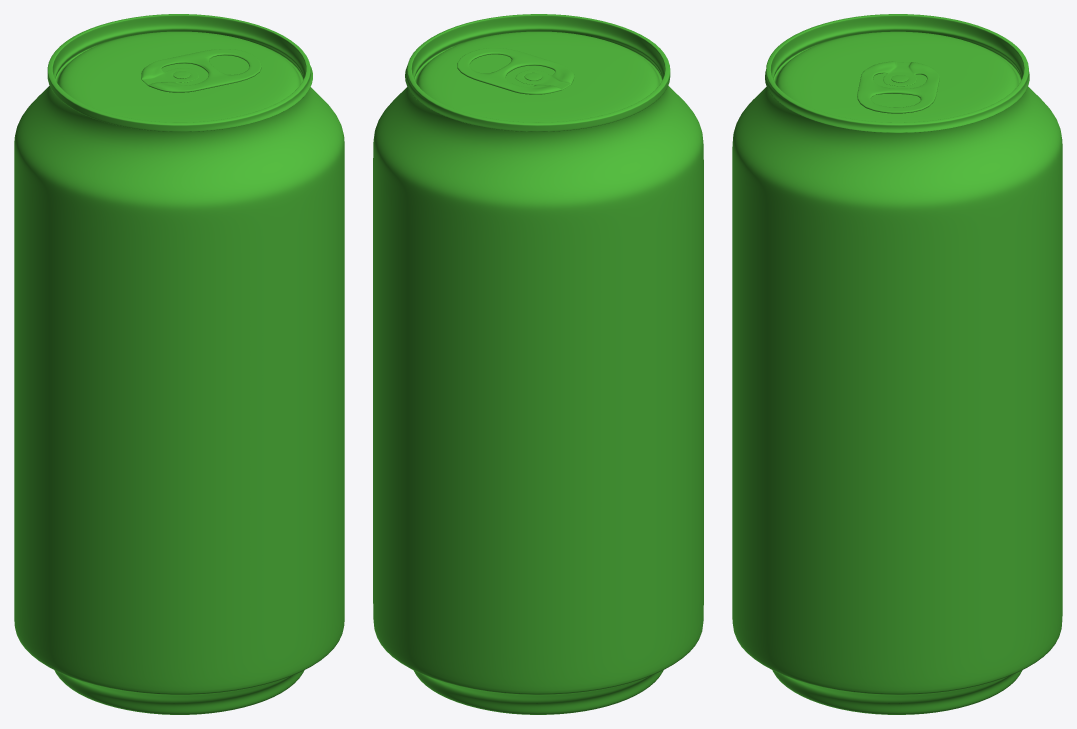
Rendered from can.glb.
3 views of the same model, side by side, from view 1: azimuth 30°, elevation 25°; view 2: azimuth 150°, elevation 25°; view 3: azimuth 270°, elevation 25° (orthographic).
Parts seen in each view (by area): view 1: model; view 2: model; view 3: model.
Boxes of the visible parts, x1=… form: model: x1=14, y1=14, x2=344, y2=714; model: x1=373, y1=14, x2=703, y2=714; model: x1=732, y1=14, x2=1062, y2=714.
Size of the model in its own units: 1.85 by 3.67 by 1.85.
